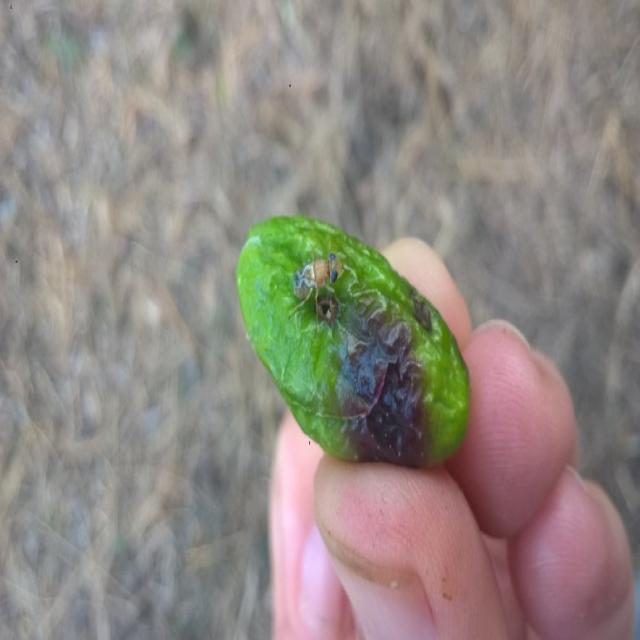Anthracnose: (237, 215, 468, 467)
